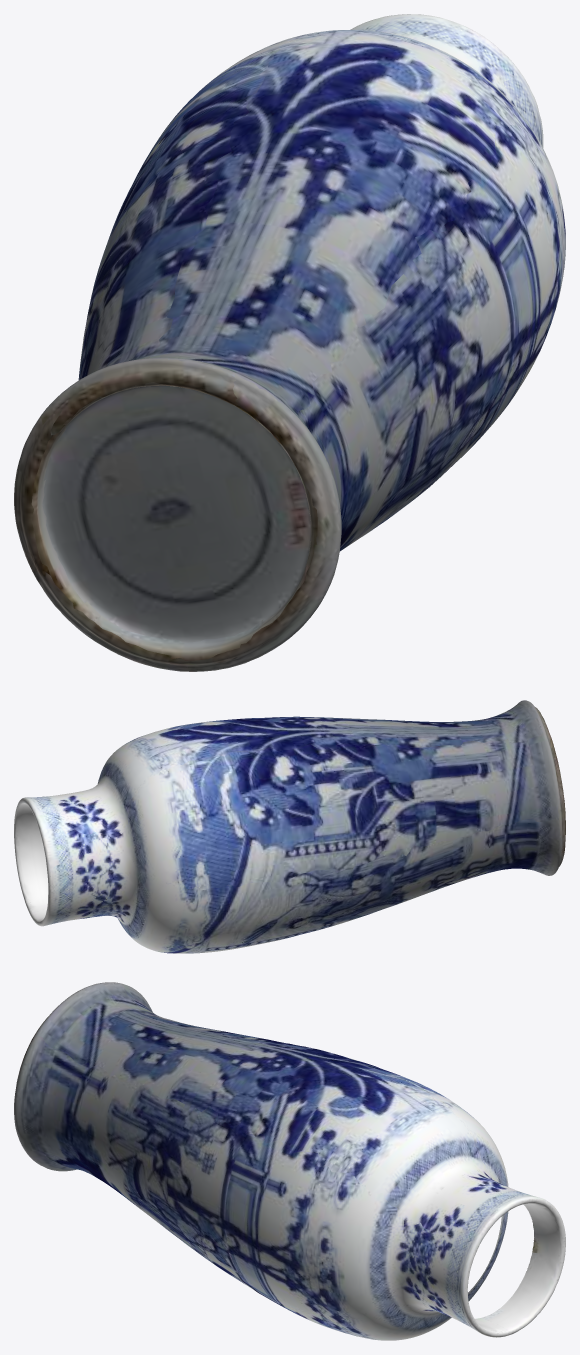
Rendered from smithsonian-Baluster_vase_one_of_three_in_a_five-piece_garniture_F1980.190--194_.glb.
3 views of the same model, one above another, from view 1: azimuth 30°, elevation 25°; view 2: azimuth 150°, elevation 25°; view 3: azimuth 270°, elevation 25° (orthographic). The views are drawn at different scales.
Visible parts, largest first — view 1: Mesh_0; view 2: Mesh_0; view 3: Mesh_0.
Boxes of the visible parts, x1,y1,x2,y2 form: Mesh_0: [14, 14, 565, 671]; Mesh_0: [14, 700, 565, 953]; Mesh_0: [14, 982, 565, 1340].
Size of the model in its own units: 0.3569 by 0.1722 by 0.364.
Materials: 1 (1 with a texture image).
